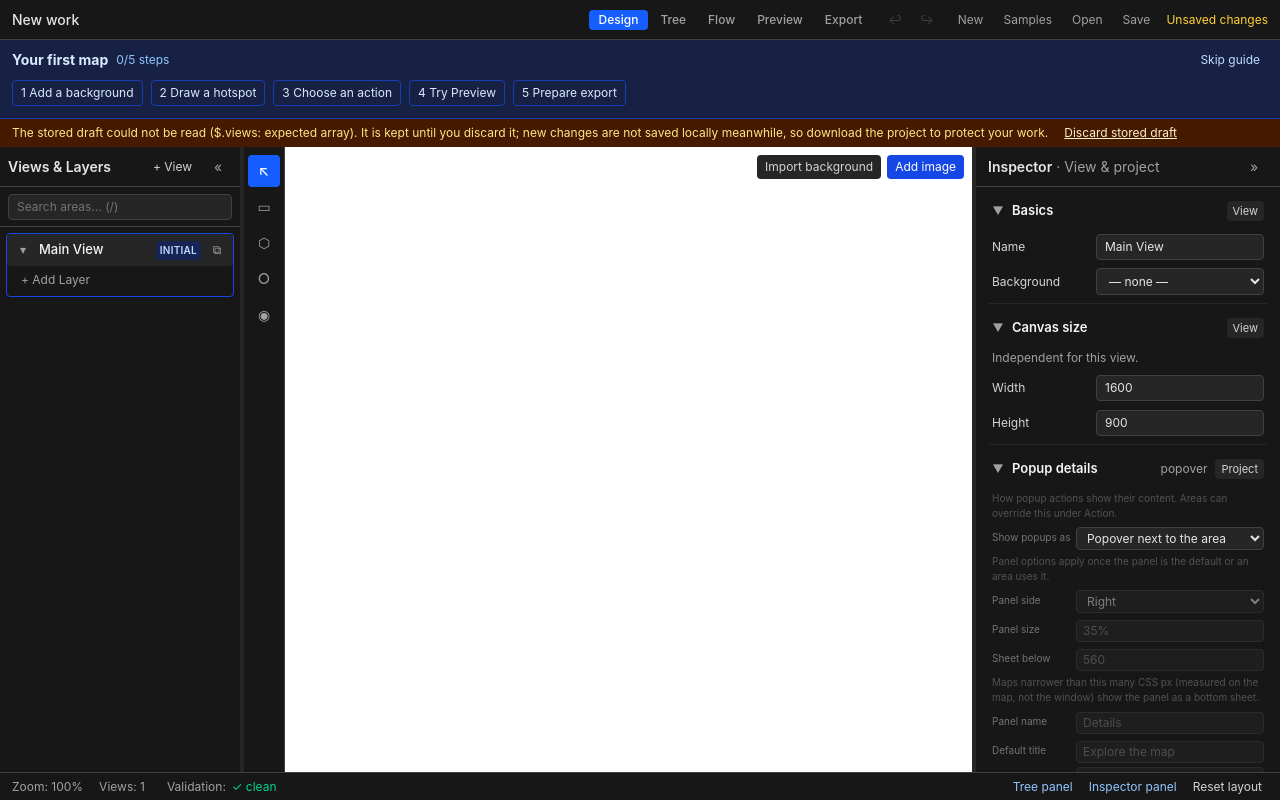
Test: draft revision tracking › keeps a corrupt stored draft until it is discarded, without crashing
Expected: the text "stored draft could not be read" is shown, [12,125,358,140]
Click the button "Discard stored draft" at (1121, 133), box [1056,123,1185,143]
Wait 500 ms
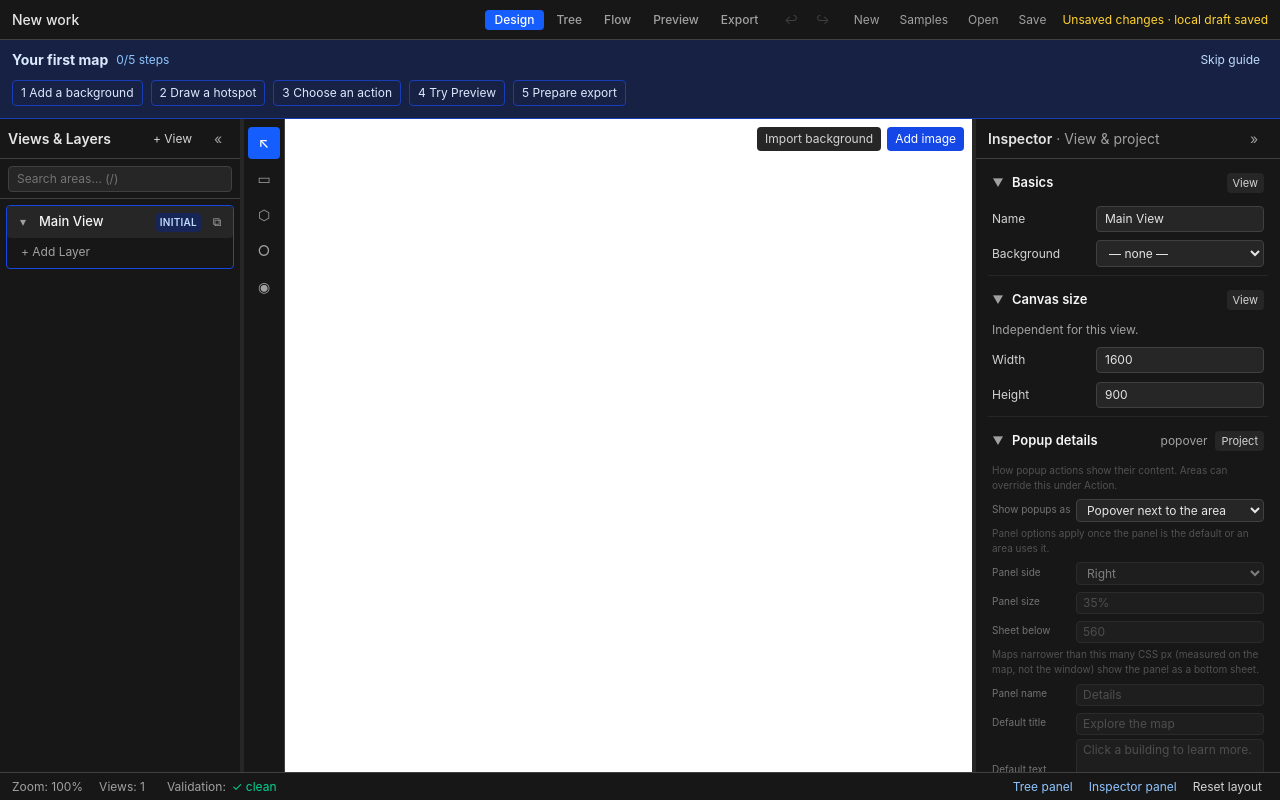
Now the text "stored draft could not be read" is gone
Now the text "Unsaved changes · local draft saved" is shown, box [1062,12,1268,28]
